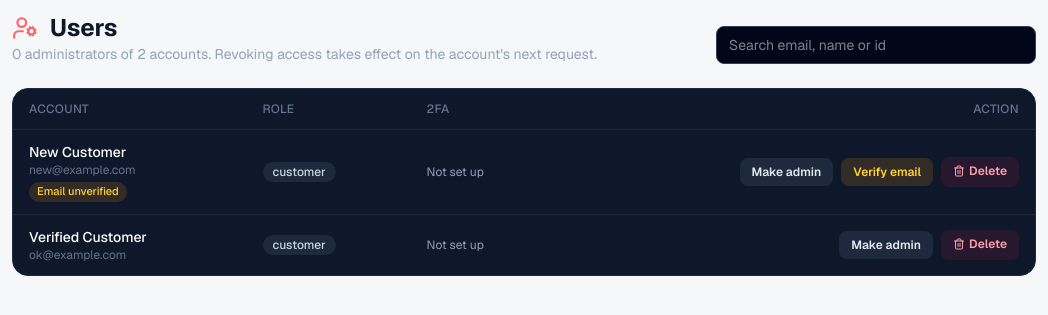
Scenario: AdminUsersPage: verify email › treats an already-verified answer as done, not as a failure
Click the button "Verify email" at [887, 172], box x1=841 y1=158 x2=933 y2=186
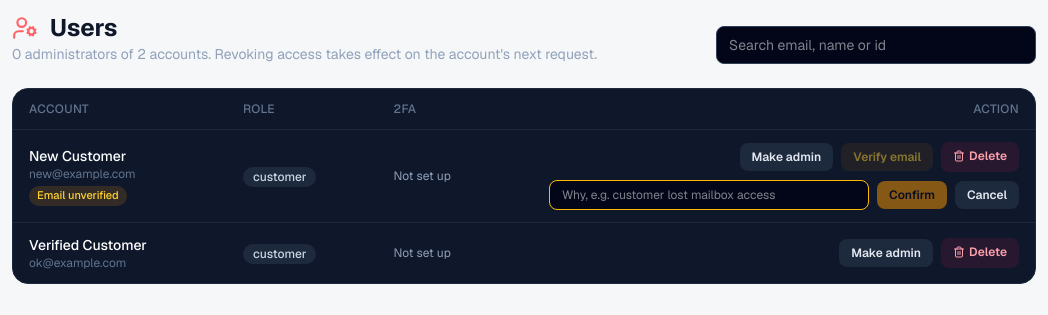
Type "verified on the phone earlier" into the field named "reason" at [709, 195], box x1=549 y1=180 x2=869 y2=210
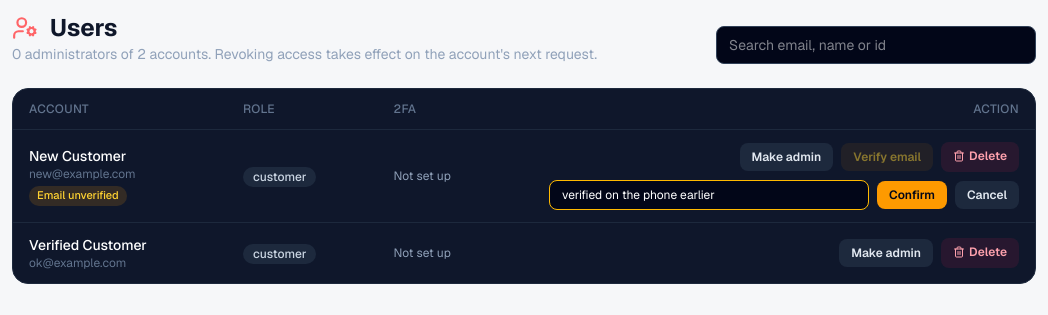
Click the button "Confirm" at [912, 195], box x1=877 y1=181 x2=947 y2=209
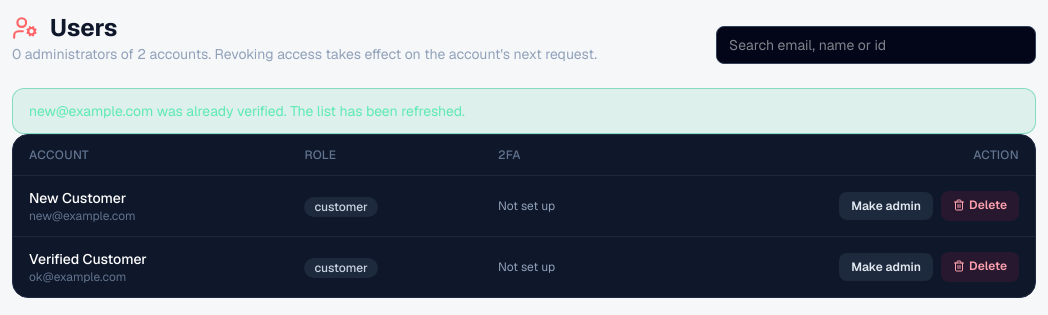
Now the text "was already verified" is shown, box x1=29 y1=102 x2=465 y2=120
